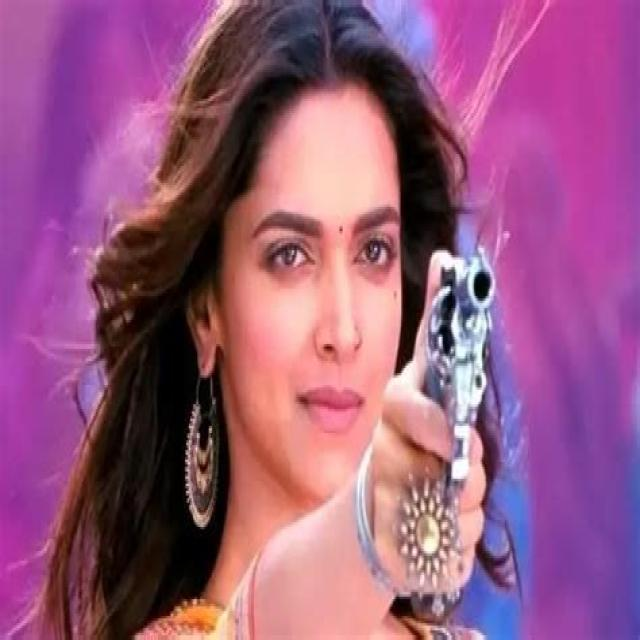weapons: (391, 222, 526, 578)
